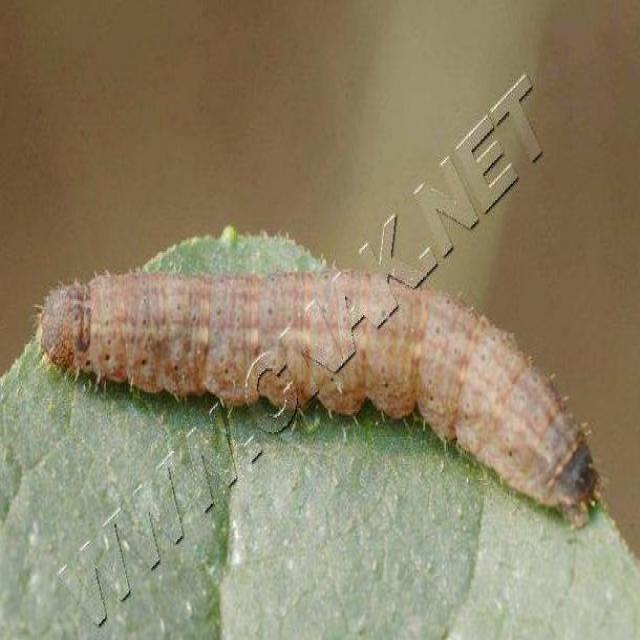armyworm: (42, 236, 611, 517)
